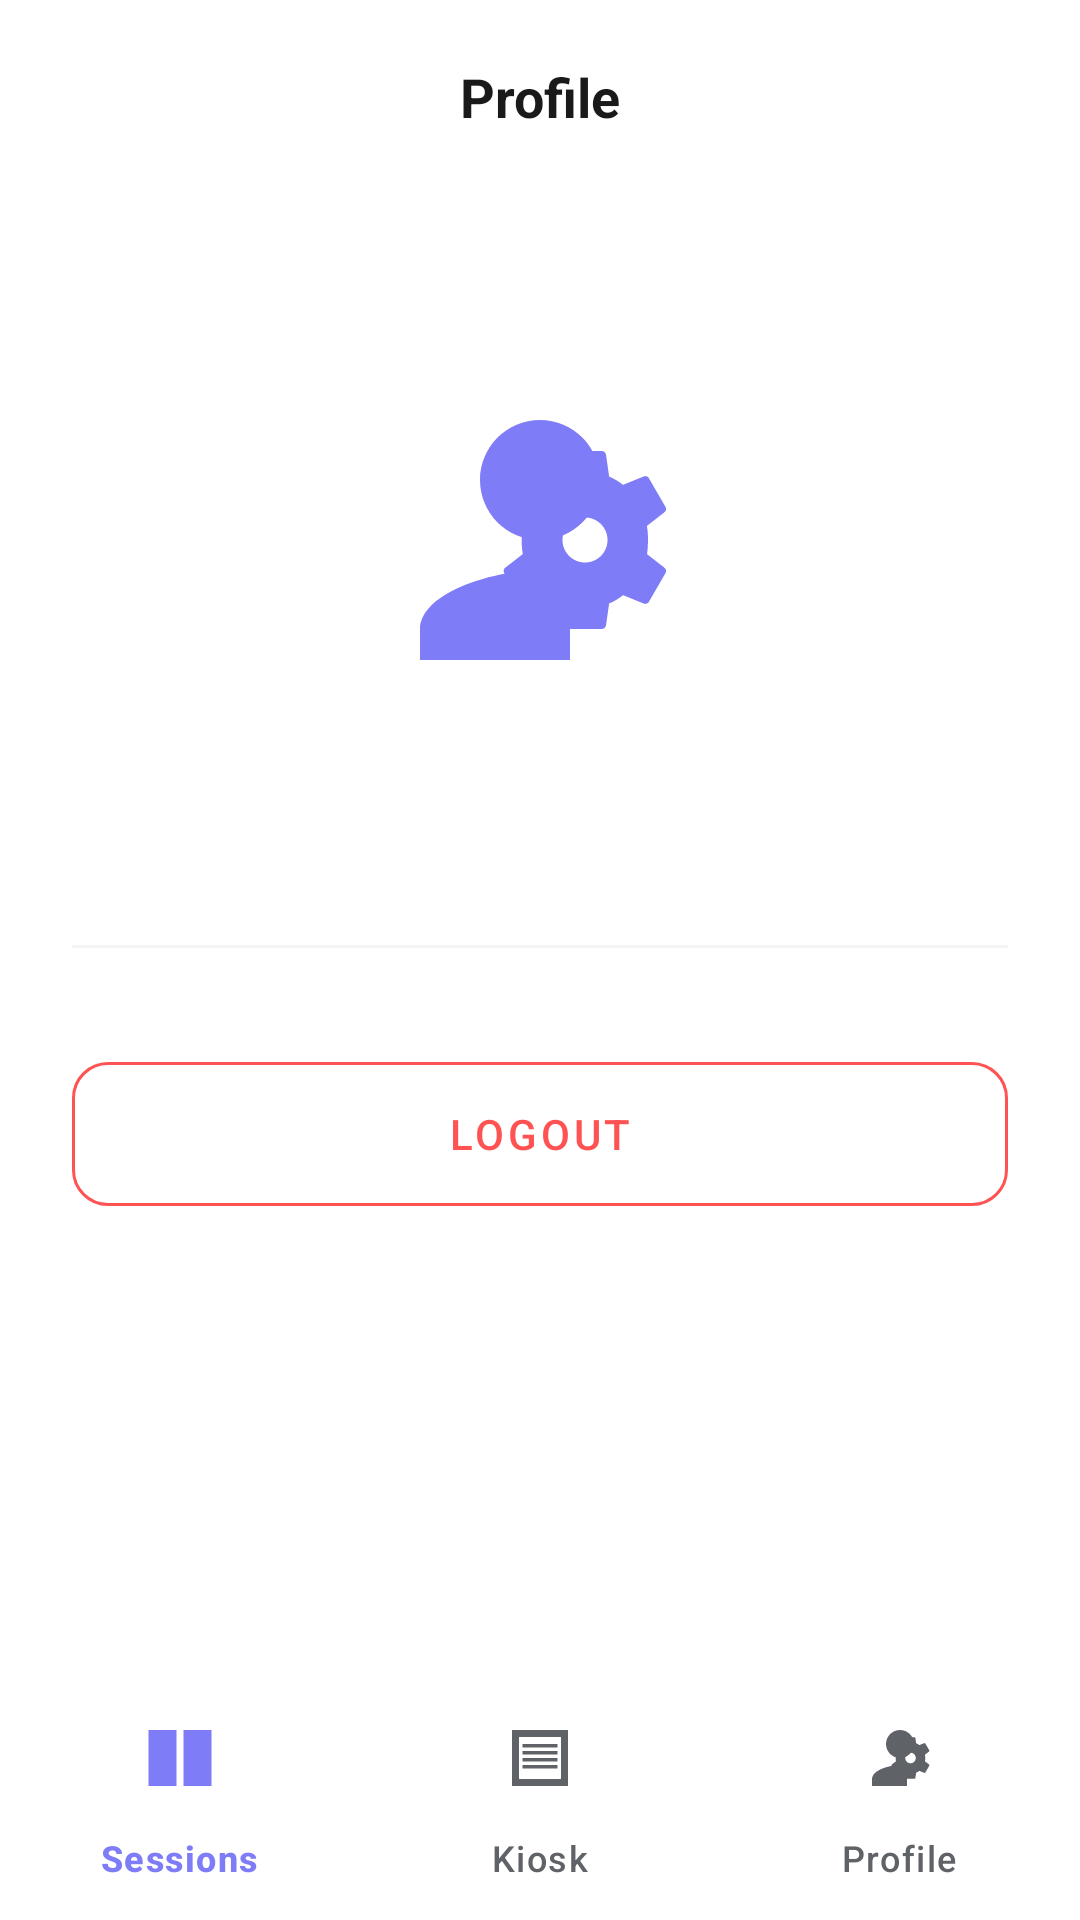

Icons on this 1080*1920 Android screen, each with its box as (x1, y1, x2, y2):
profile: (420, 420, 666, 660)
